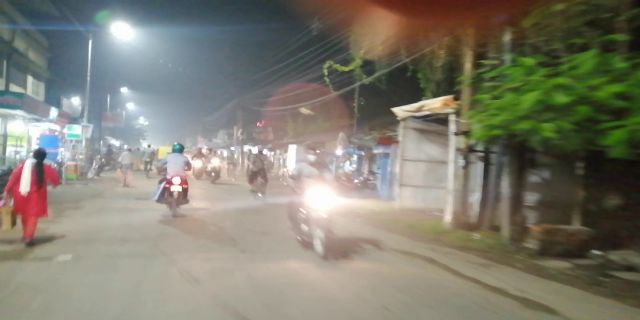Motorbike: (286, 142, 346, 264), (152, 135, 191, 221)
